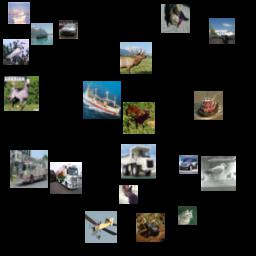airplane: (85, 211, 117, 243), (209, 18, 235, 44)
automobile: (179, 155, 198, 174), (59, 20, 78, 39)
bird: (201, 156, 236, 191), (3, 39, 29, 65)
cat: (161, 4, 190, 33), (119, 185, 138, 204), (178, 206, 197, 225)
deer: (120, 42, 152, 74), (123, 102, 155, 134)
frog: (136, 213, 165, 242)
ship: (83, 81, 121, 119), (194, 91, 223, 120), (31, 23, 53, 45), (8, 2, 30, 24)
truck: (10, 150, 48, 188), (121, 144, 156, 179), (50, 162, 82, 194)
